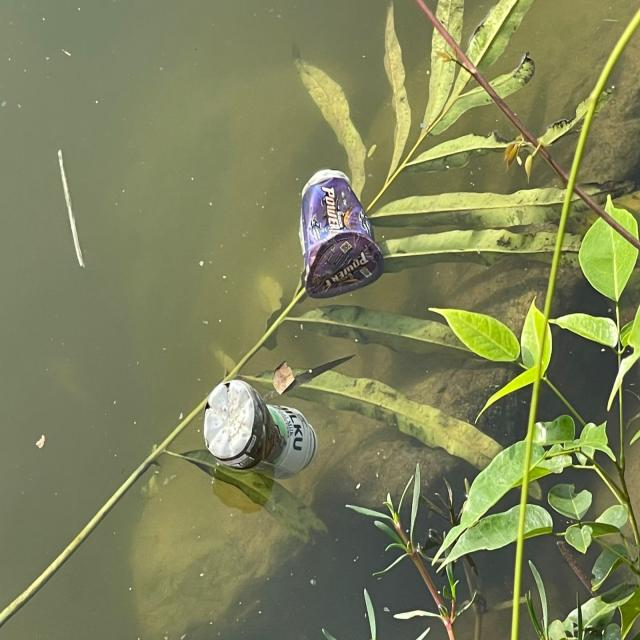Botol Plastik: (201, 377, 320, 485)
Bungkus Minuman: (293, 168, 387, 301)
